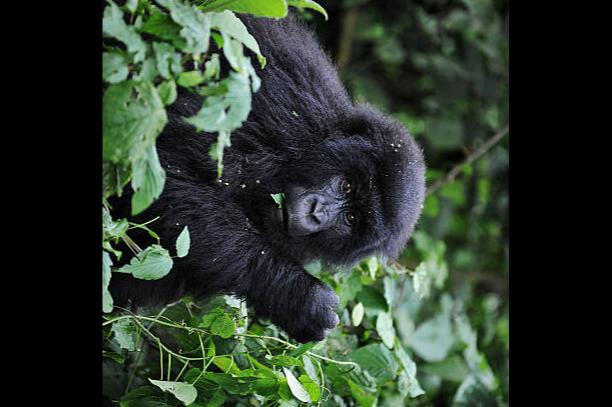goriile_montagne: (133, 33, 465, 339)
